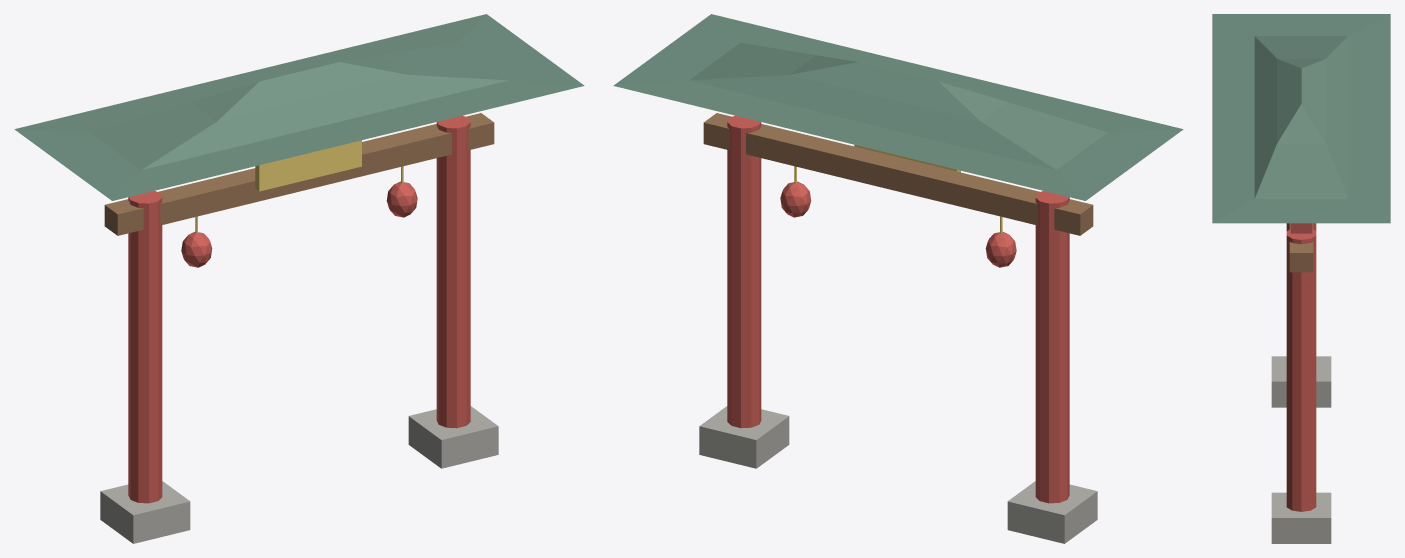
File: Puerta.fbx
The picture shows the model from 3 angles, left to right: view 1: azimuth 30°, elevation 25°; view 2: azimuth 150°, elevation 25°; view 3: azimuth 270°, elevation 25°; orthographic projection. The views are drawn at different scales.
Parts seen in each view (by area): view 1: Puerta; view 2: Puerta; view 3: Puerta.
Part boxes in pixels (bbox=[...]): Puerta: bbox=[14, 14, 584, 543]; Puerta: bbox=[613, 14, 1183, 543]; Puerta: bbox=[1212, 14, 1390, 543].
Bounding box in the file's own units: 4.14 × 3.48 × 1.49.
